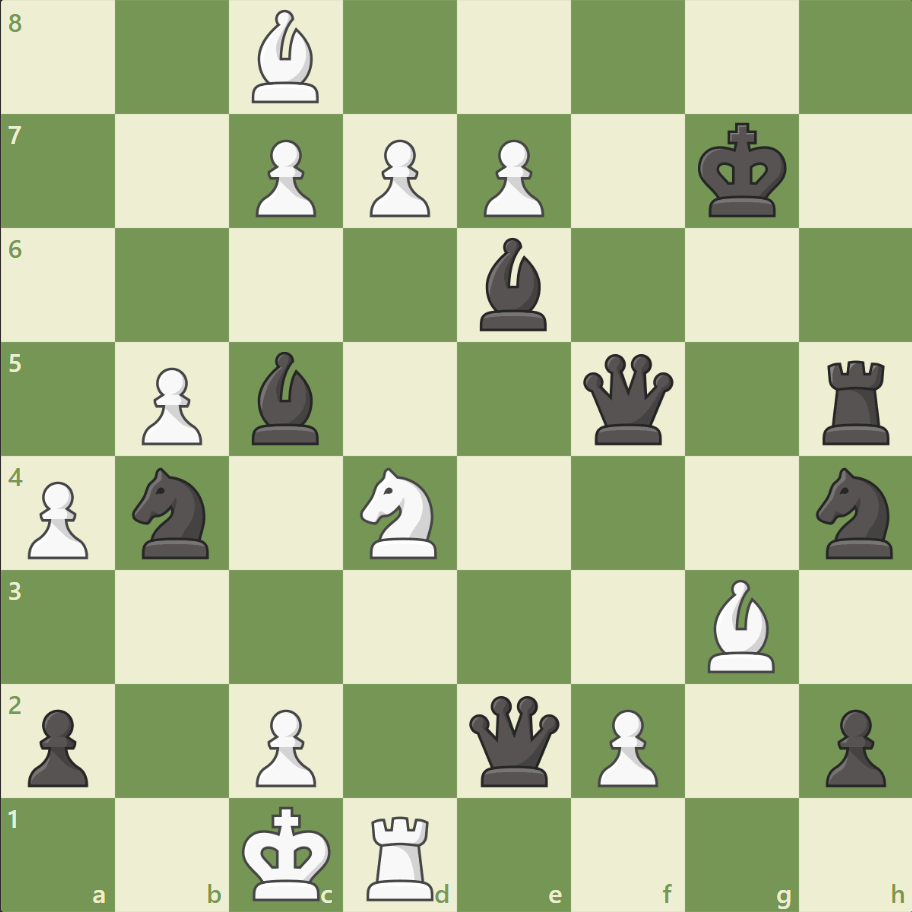B: (244, 6, 328, 109), (698, 574, 782, 676)
K: (238, 798, 338, 906)
N: (351, 461, 449, 564)
P: (247, 132, 322, 223), (474, 132, 549, 223), (133, 359, 208, 450), (20, 473, 95, 564), (247, 700, 322, 791), (361, 132, 435, 223), (588, 700, 662, 791)
R: (360, 806, 442, 904)
b: (471, 233, 555, 336), (244, 347, 328, 449)
k: (692, 117, 792, 225)
n: (124, 461, 222, 564), (806, 461, 903, 564)
p: (20, 700, 95, 791), (815, 700, 889, 791)
q: (578, 349, 677, 449), (464, 690, 563, 789)
r: (814, 352, 897, 449)
